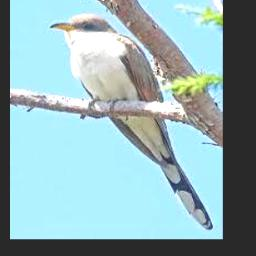Cuckoo: (48, 13, 213, 229)
